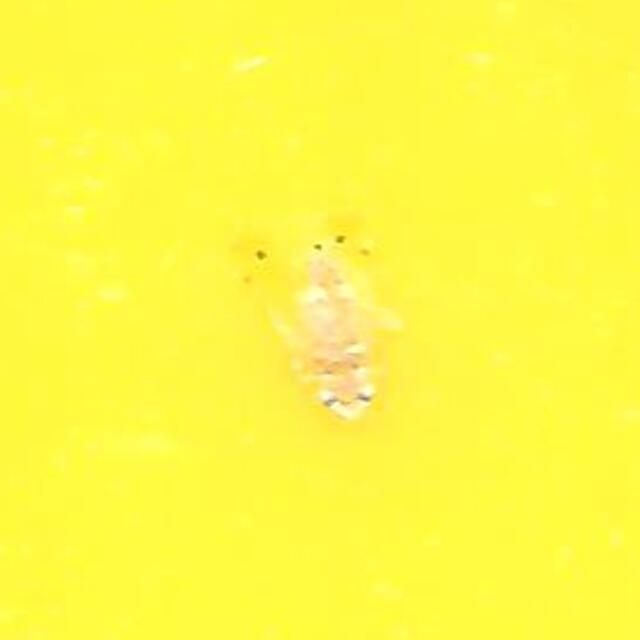Hemiptera: (234, 213, 406, 427)
